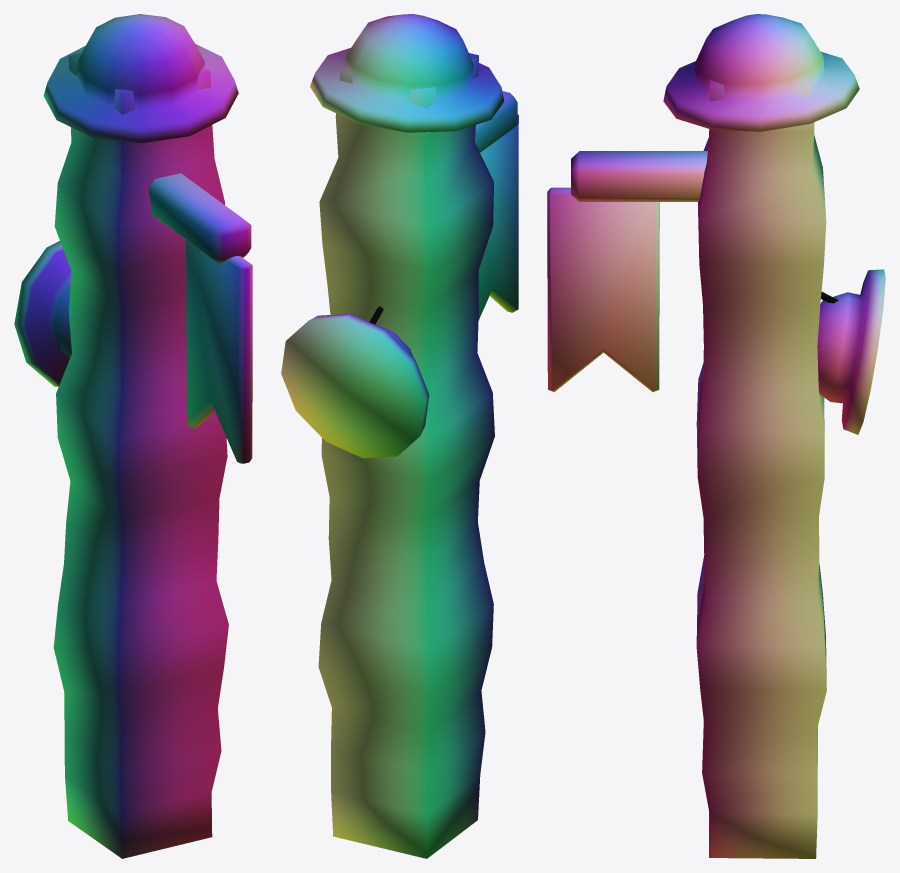
File: SM_Palisade_March_GatePost.fbx
The picture shows the model from 3 angles, left to right: view 1: azimuth 30°, elevation 25°; view 2: azimuth 150°, elevation 25°; view 3: azimuth 270°, elevation 25°; orthographic projection.
Parts seen in each view (by area): view 1: SM_Palisade_March_GatePost; view 2: SM_Palisade_March_GatePost; view 3: SM_Palisade_March_GatePost.
Boxes of the visible parts, x1=… form: SM_Palisade_March_GatePost: x1=14, y1=14, x2=252, y2=858; SM_Palisade_March_GatePost: x1=281, y1=14, x2=518, y2=858; SM_Palisade_March_GatePost: x1=547, y1=14, x2=885, y2=858.
Size of the model in its own units: 0.4237 by 1.94 by 0.7296.
